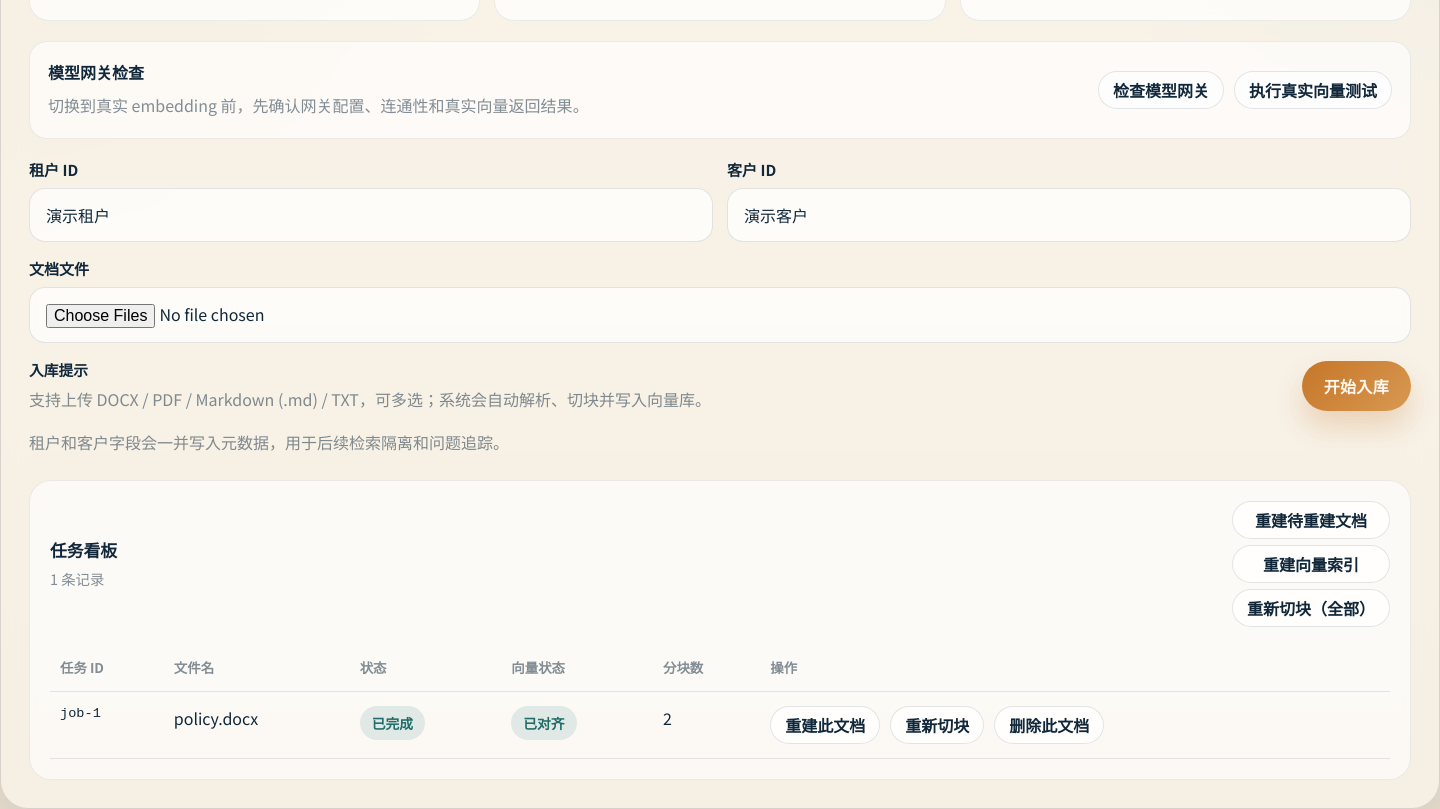
Test: rechunks all completed documents from the header button
(page scrolled)
Check: the text "policy.docx" is shown, box [164,691,350,758]
Click the button "重新切块（全部）": (1311, 608) [1232,589,1390,627]
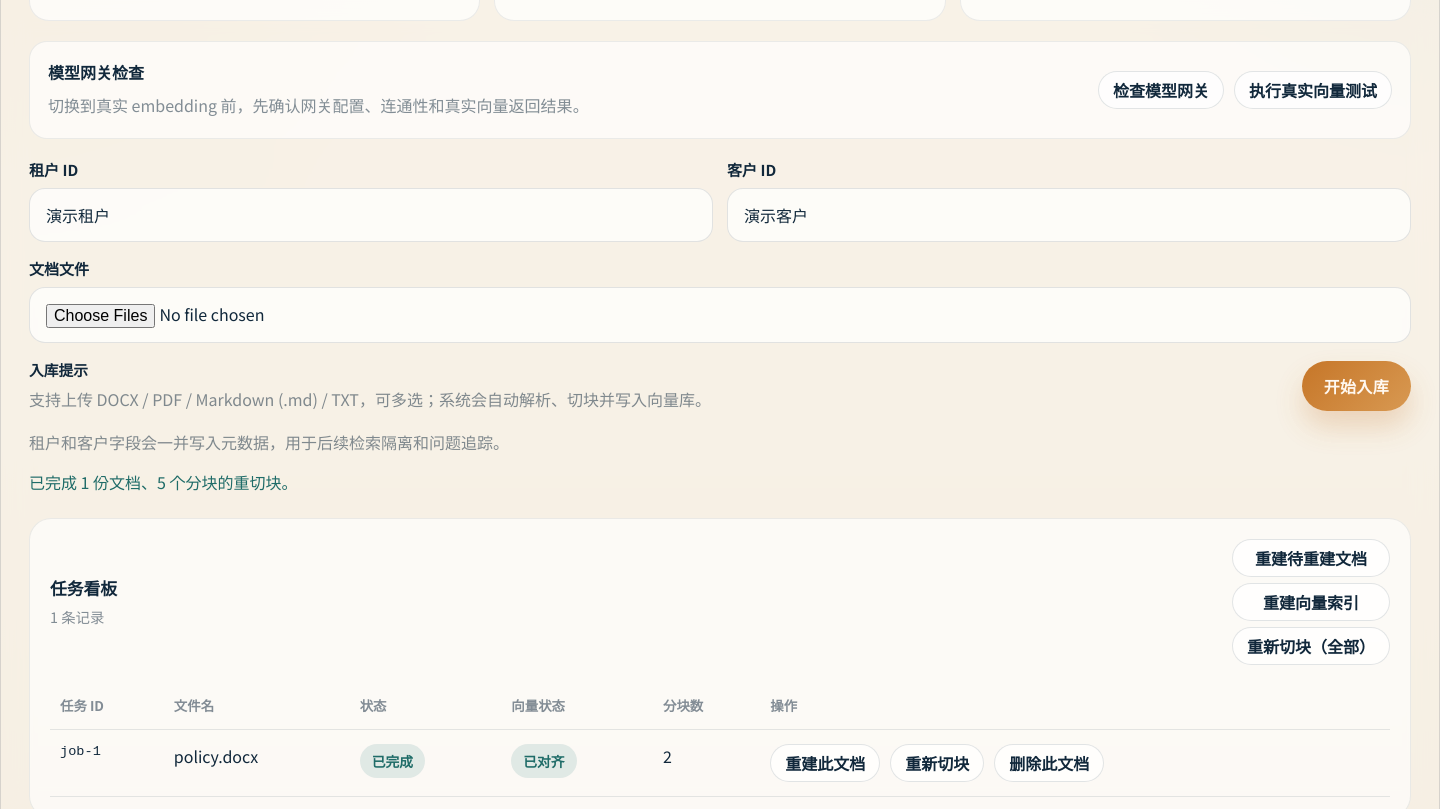
Check: the text "已完成 1 份文档、5 个分块的重切块。" is shown, box [29,470,298,494]
